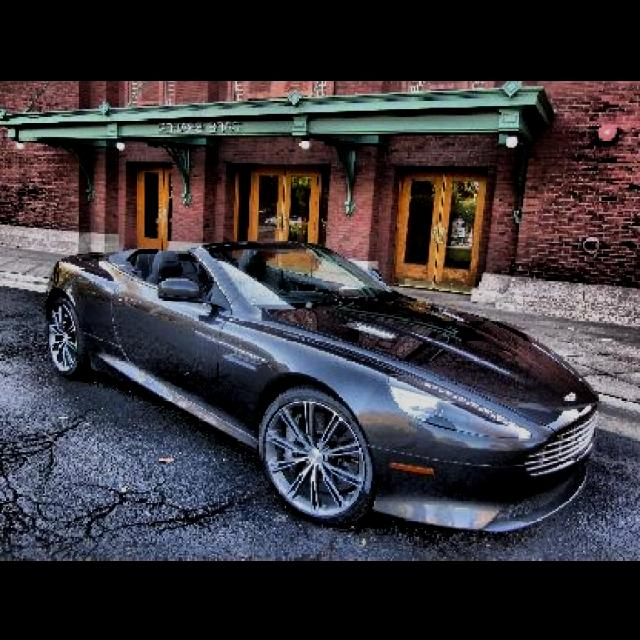black: (0, 212, 609, 481)
